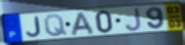0: (95, 10, 114, 34)
9: (145, 6, 166, 31)
A: (70, 11, 96, 37)
J: (124, 7, 143, 32), (25, 15, 42, 38)
Q: (43, 14, 69, 38)
